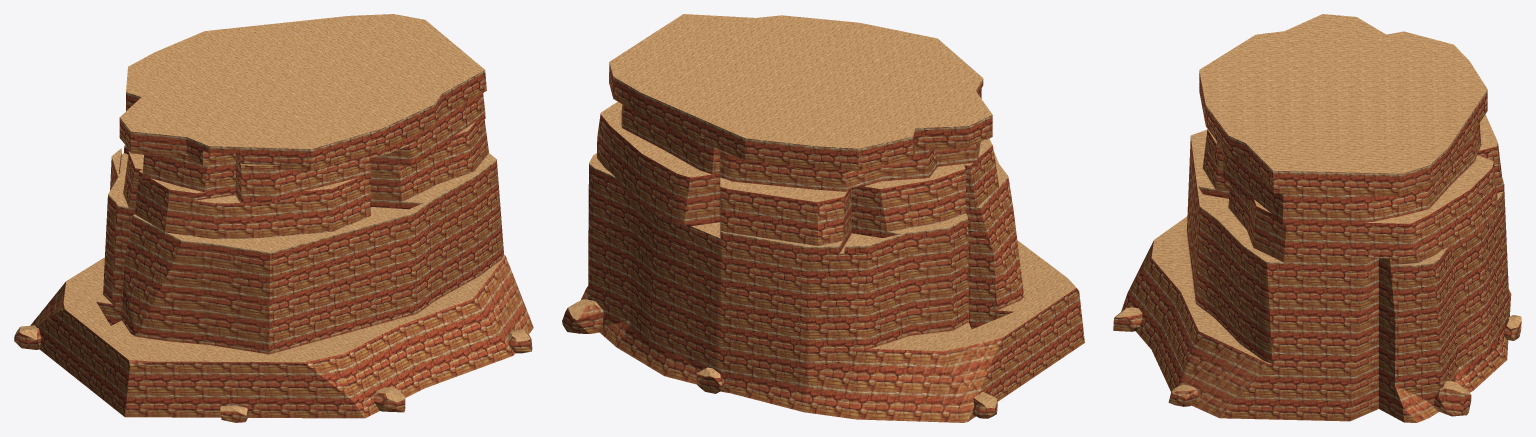
The model's file is v4_mesa_02.glb.
3 views of the same model, side by side, from view 1: azimuth 30°, elevation 25°; view 2: azimuth 150°, elevation 25°; view 3: azimuth 270°, elevation 25° (orthographic). The views are drawn at different scales.
Parts seen in each view (by area): view 1: v4_mesa_02; view 2: v4_mesa_02; view 3: v4_mesa_02.
Boxes of the visible parts, box(x1,y1,x2,y2) form: v4_mesa_02: box(14, 14, 533, 422); v4_mesa_02: box(562, 14, 1084, 422); v4_mesa_02: box(1113, 14, 1521, 422).
Size of the model in its own units: 39.74 by 22 by 34.29.
Materials: 1 (1 with a texture image).
